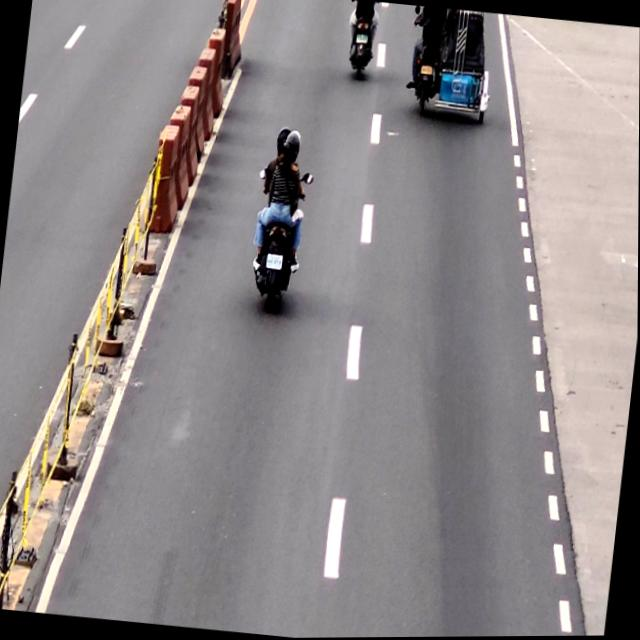License-Plate: (264, 251, 283, 271), (420, 64, 434, 76), (354, 34, 368, 44)
Motorcycle: (246, 163, 315, 315), (341, 0, 380, 81)
Tricycle: (402, 6, 498, 126)
